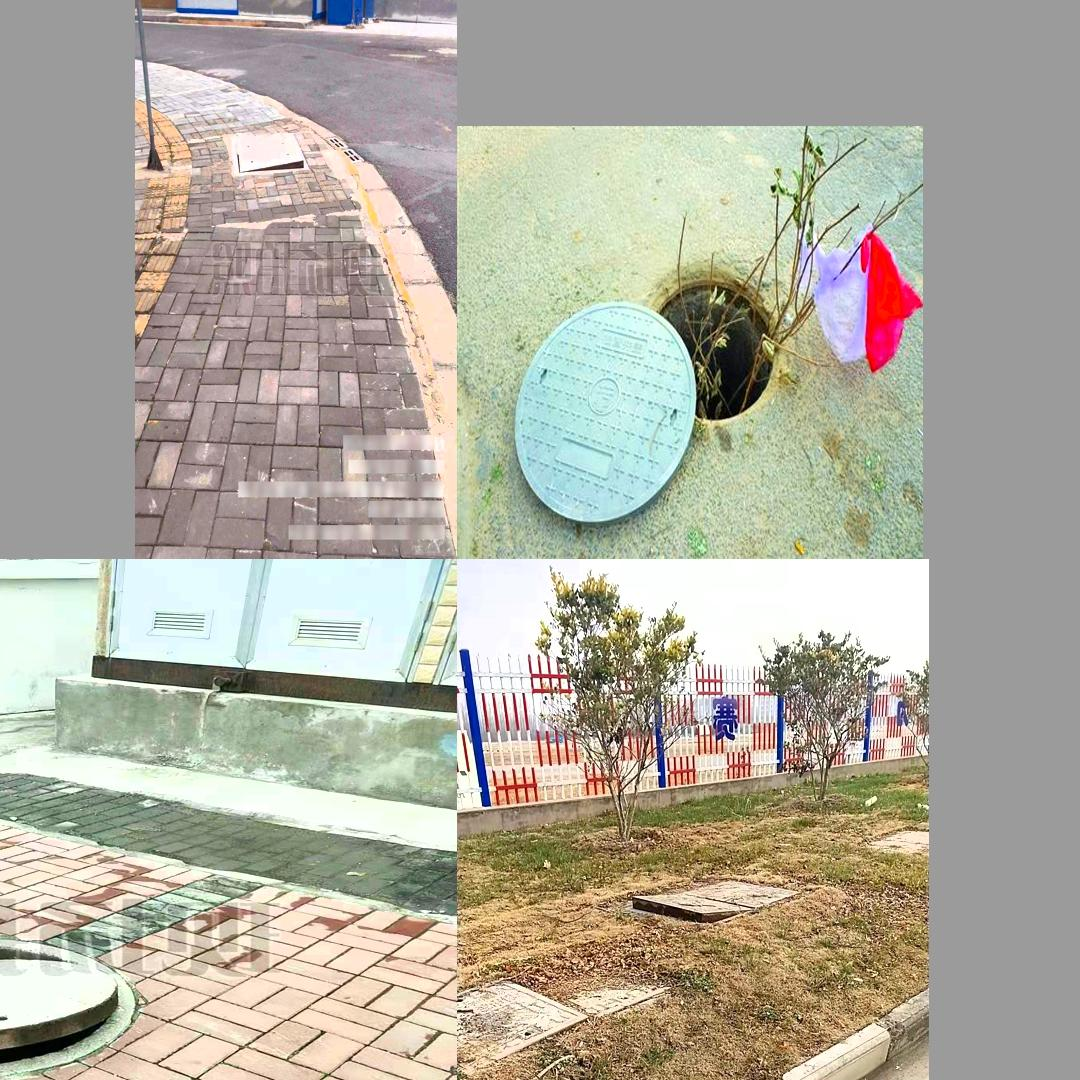good: (457, 966, 672, 1078)
uncovered: (510, 253, 808, 522), (0, 935, 135, 1080), (619, 884, 805, 924), (229, 133, 311, 176)
